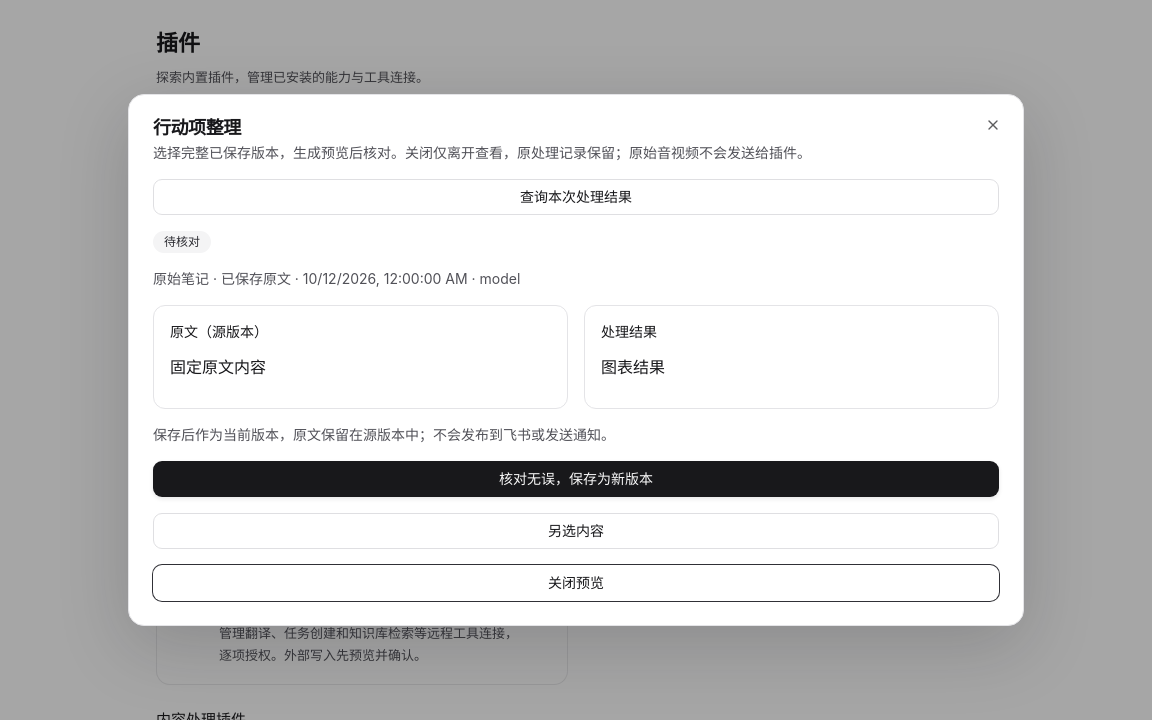
Test case: requires a real save receipt before claiming the new version is saved
Expected: the text "图表结果" is shown, [601,357,665,377]
Click the button "核对无误，保存为新版本". click: click(576, 479)
box: [153,461,999,497]
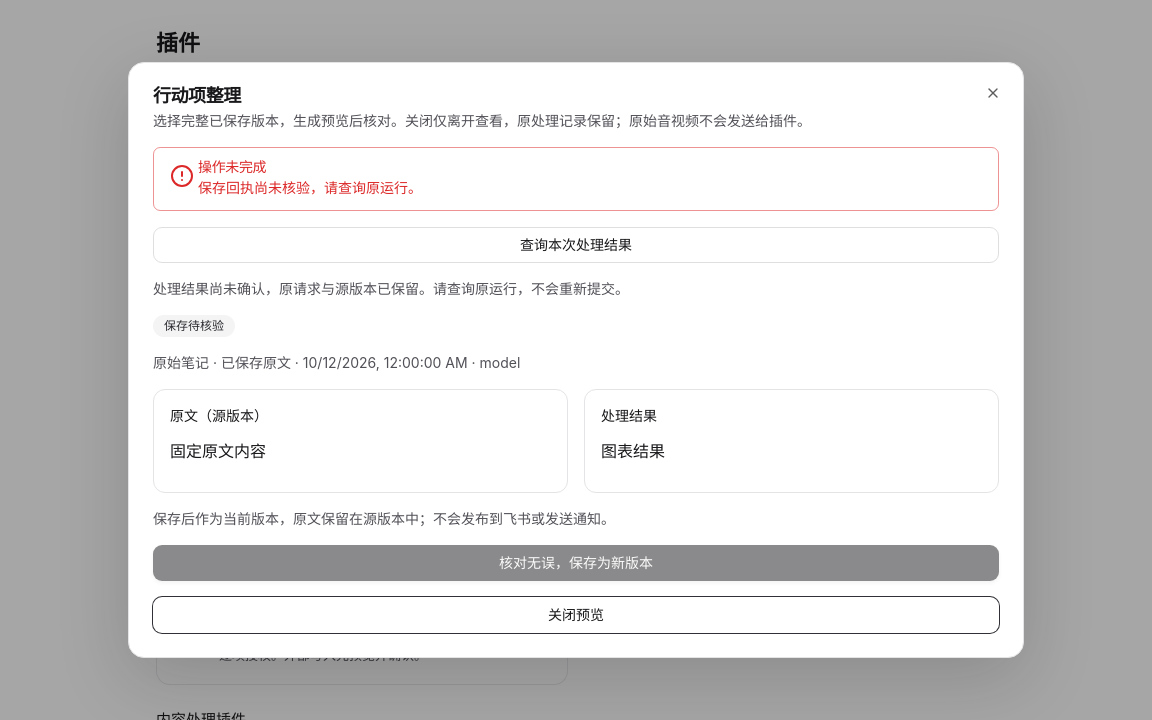
Now the text "保存回执尚未核验，请查询原运行。" is shown, box [198,178,422,198]
